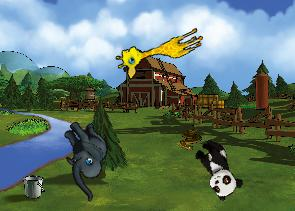elephant: (41, 113, 129, 202)
giraffe: (112, 16, 206, 82)
panda: (188, 135, 246, 202)
